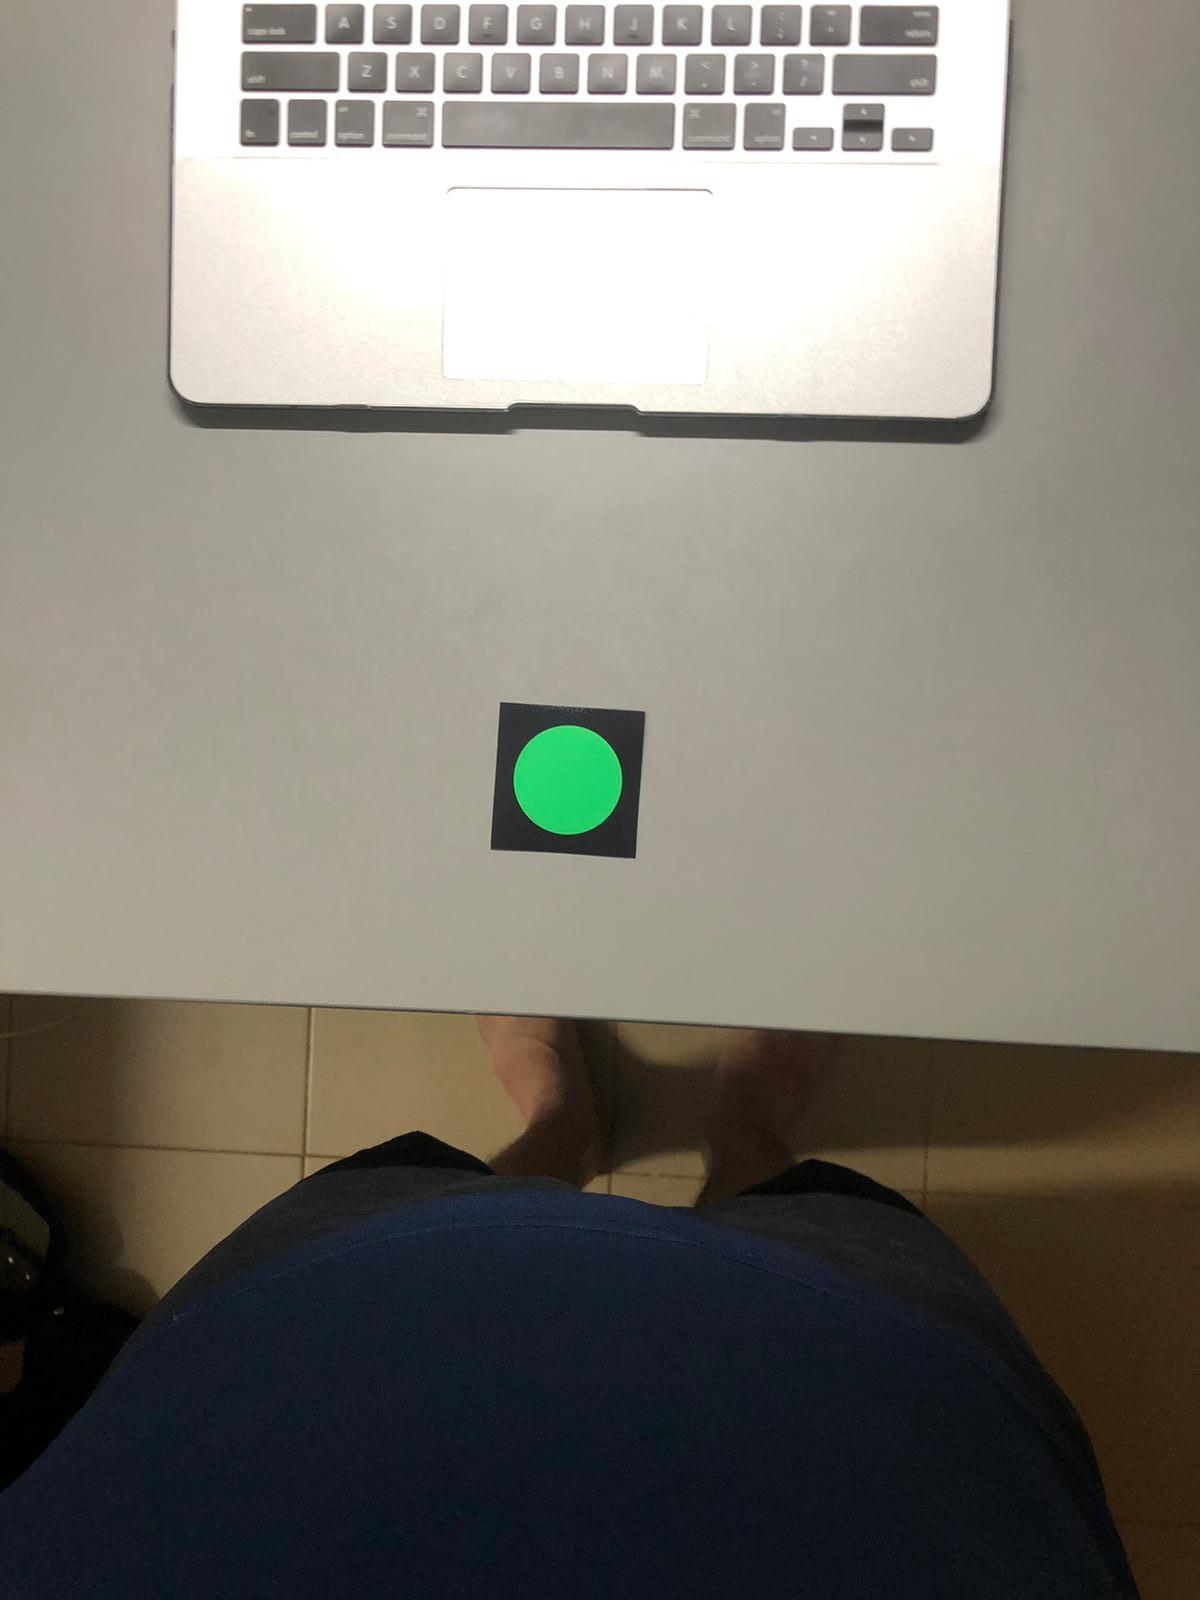Circle: (494, 698, 645, 857)
